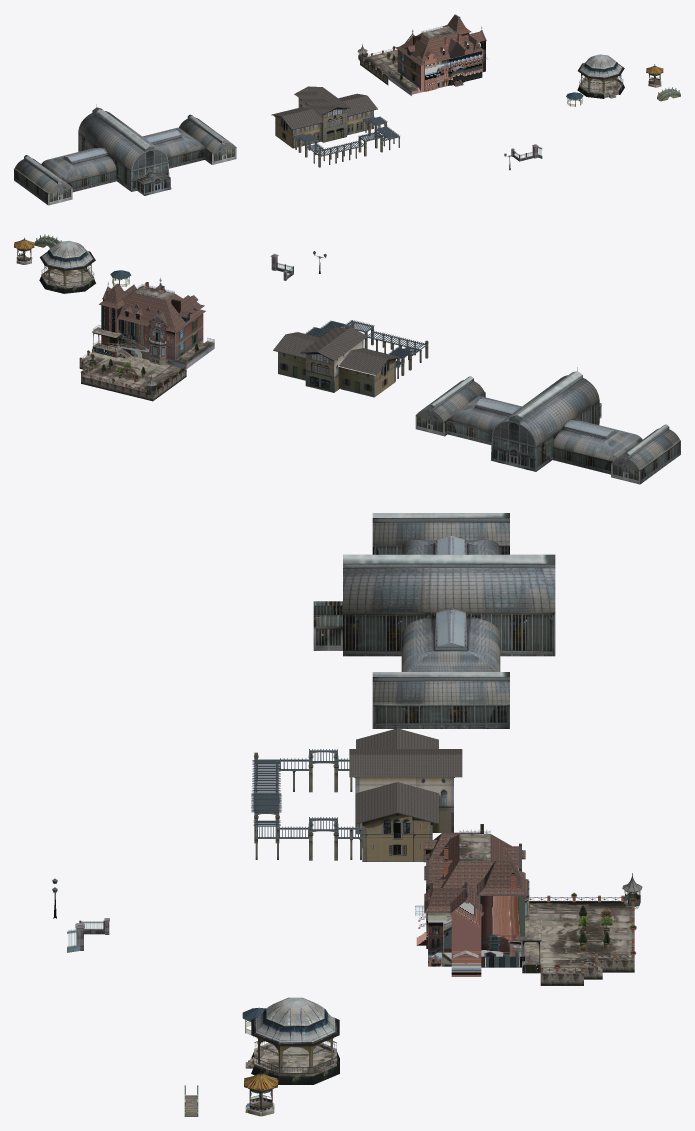
File: euro_b.glb
The picture shows the model from 3 angles, top to bottom: view 1: azimuth 30°, elevation 25°; view 2: azimuth 150°, elevation 25°; view 3: azimuth 270°, elevation 25°; orthographic projection. The views are drawn at different scales.
Parts seen in each view (by area): view 1: Station, Mansion, Villa, Bandstand; view 2: Station, Mansion, Villa, Bandstand; view 3: Station, Mansion, Villa, Bandstand, Pavilion_Wood.
Boxes of the visible parts, x1=… form: Station: x1=14, y1=104, x2=236, y2=205; Mansion: x1=357, y1=14, x2=488, y2=95; Villa: x1=271, y1=86, x2=399, y2=167; Bandstand: x1=577, y1=54, x2=624, y2=98; Station: x1=415, y1=367, x2=680, y2=484; Mansion: x1=79, y1=278, x2=214, y2=401; Villa: x1=273, y1=320, x2=428, y2=397; Bandstand: x1=39, y1=241, x2=95, y2=293; Station: x1=313, y1=513, x2=555, y2=728; Mansion: x1=415, y1=824, x2=642, y2=985; Villa: x1=251, y1=728, x2=462, y2=861; Bandstand: x1=245, y1=997, x2=339, y2=1084; Pavilion_Wood: x1=244, y1=1070, x2=278, y2=1116.
Size of the model in its own units: 183 by 17.39 by 79.81.
Materials: 86 (81 with a texture image).
